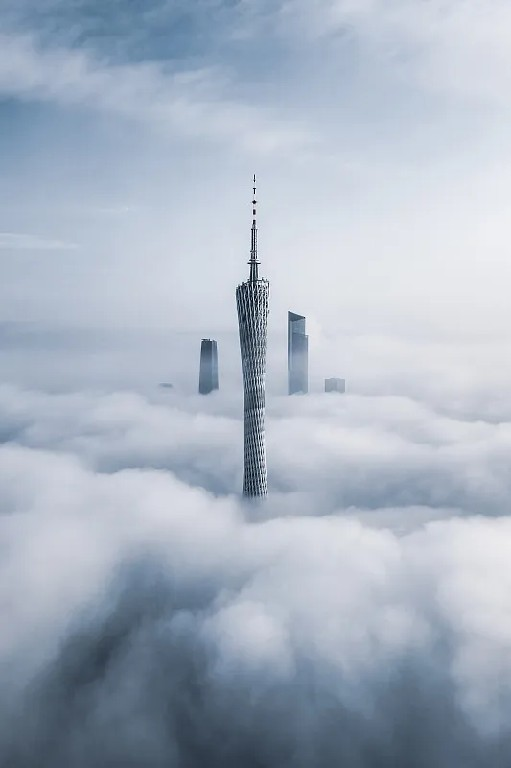Canton: (234, 174, 272, 501)
